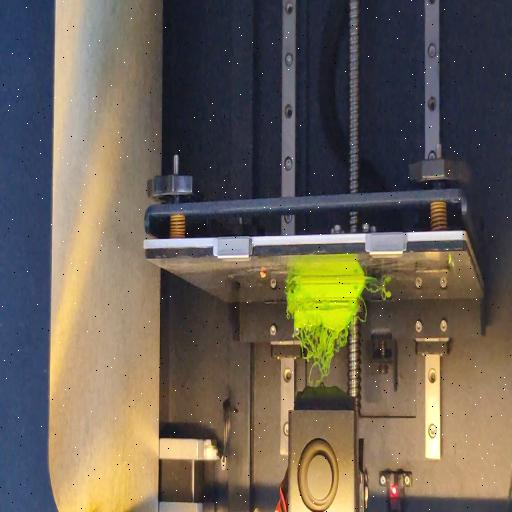spaghetti: (294, 328, 347, 382), (364, 274, 392, 302), (357, 301, 369, 323), (284, 274, 296, 288)
